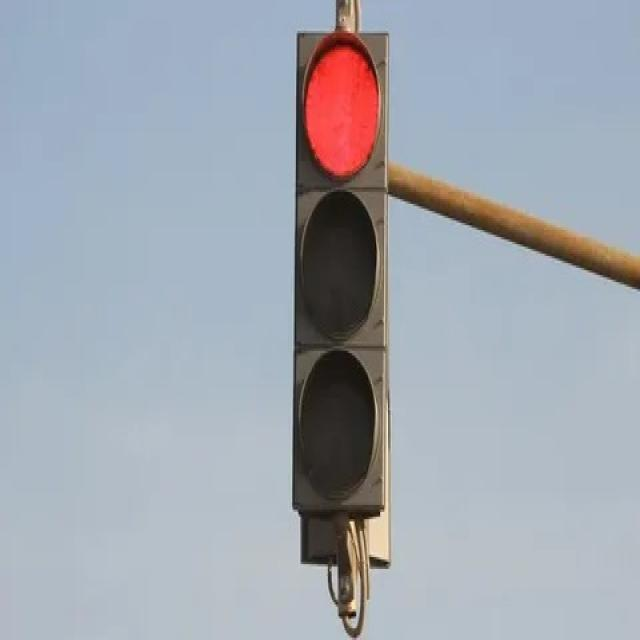kirmizi: (294, 34, 389, 510)
